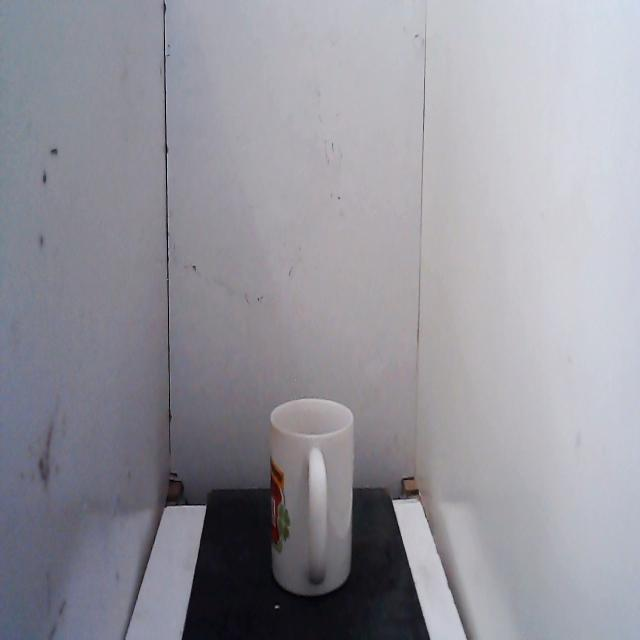glass: (255, 381, 368, 608)
